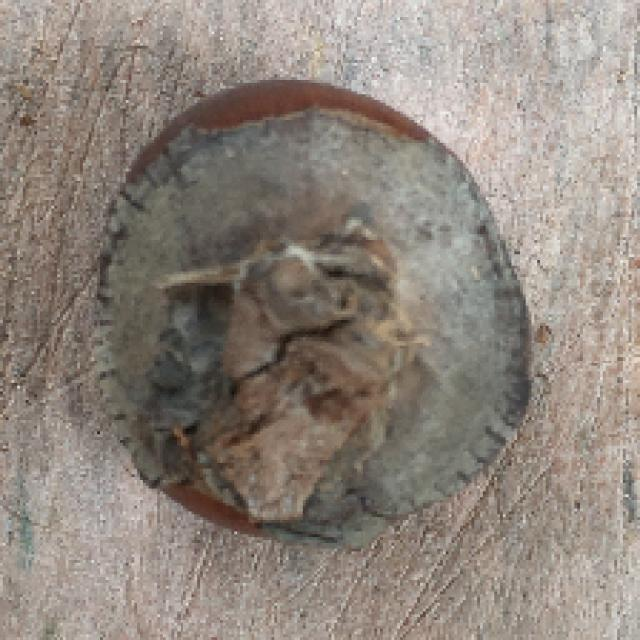damagedHazelnut: (102, 78, 537, 541)
